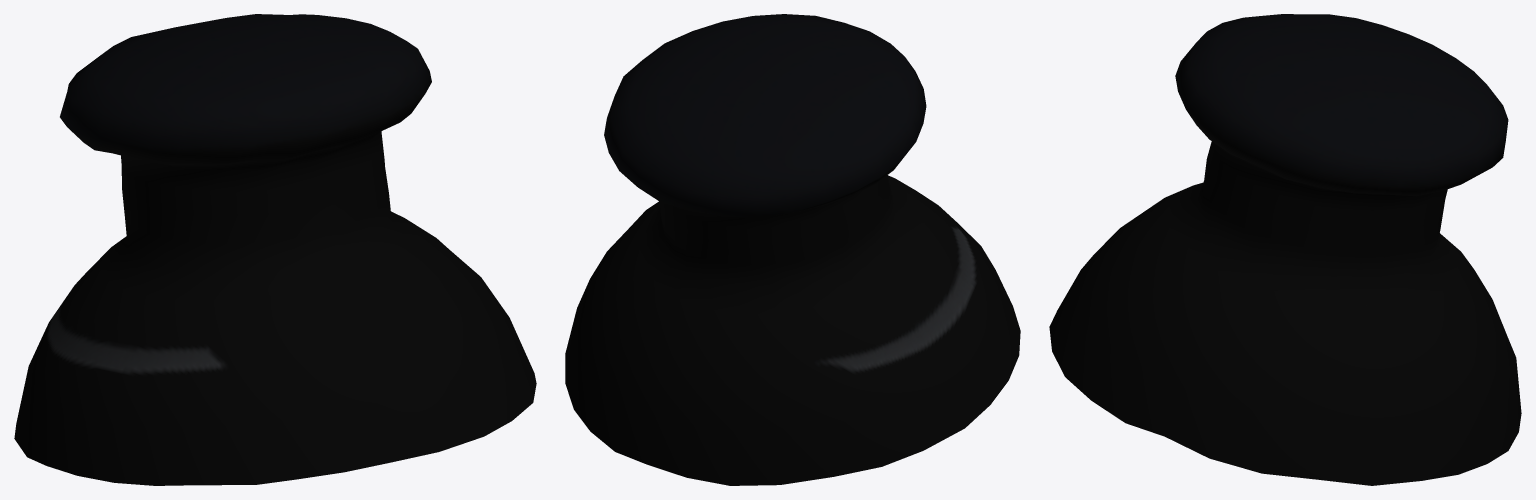
The model's file is left_joystick.obj.
3 renders of one model, left to right at view 1: azimuth 30°, elevation 25°; view 2: azimuth 150°, elevation 25°; view 3: azimuth 270°, elevation 25°, orthographic. The views are drawn at different scales.
Visible parts, largest first — view 1: left_joystick; view 2: left_joystick; view 3: left_joystick.
Part boxes in pixels (bbox=[...]): left_joystick: bbox=[14, 14, 536, 485]; left_joystick: bbox=[565, 14, 1020, 485]; left_joystick: bbox=[1049, 14, 1521, 485].
Bounding box in the file's own units: 0.0184 × 0.0154 × 0.018.
1 material, 1 textured.
